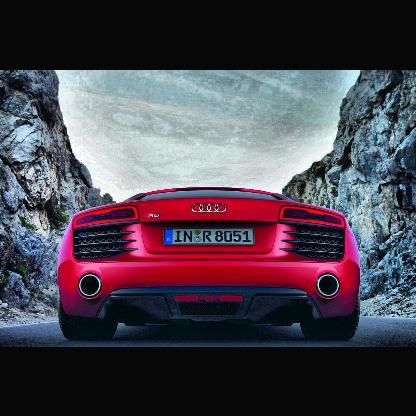Audi R8 Coupe 2012: (57, 186, 361, 340)
